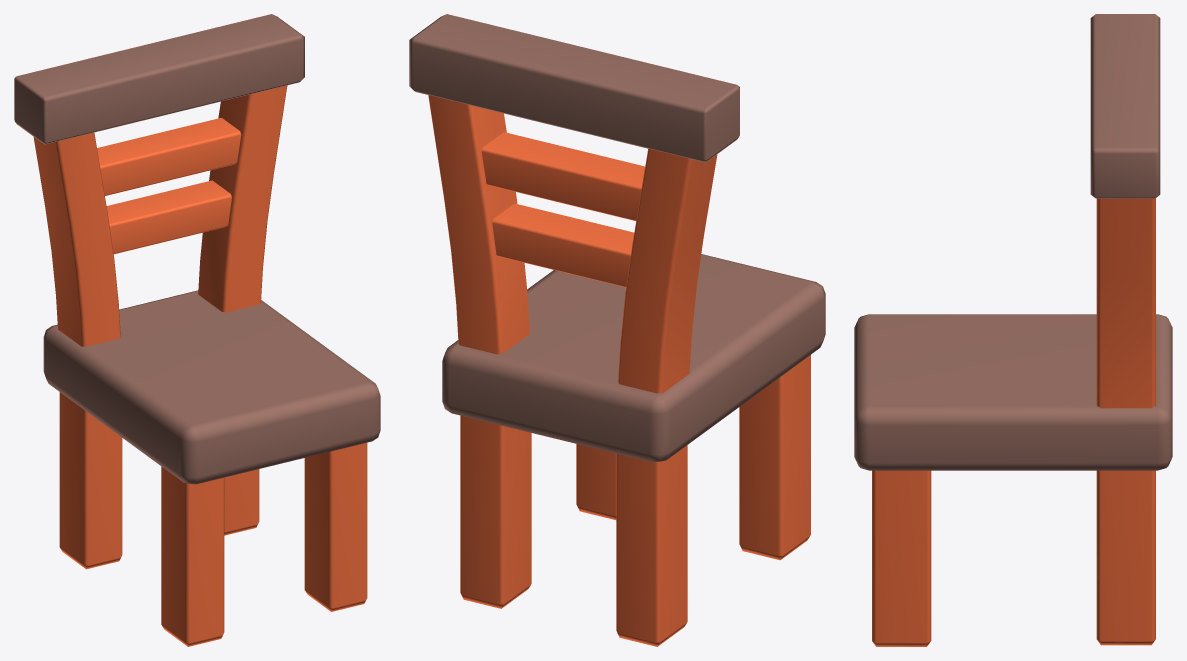
File: Store_2_Chair_1.glb
The picture shows the model from 3 angles, left to right: view 1: azimuth 30°, elevation 25°; view 2: azimuth 150°, elevation 25°; view 3: azimuth 270°, elevation 25°; orthographic projection. The views are drawn at different scales.
Visible parts, largest first — view 1: Store_2_Chair_1; view 2: Store_2_Chair_1; view 3: Store_2_Chair_1.
Part boxes in pixels (left/top/right/bottom): Store_2_Chair_1: left=14, top=14, right=380, bottom=646; Store_2_Chair_1: left=409, top=14, right=825, bottom=646; Store_2_Chair_1: left=854, top=14, right=1172, bottom=646.
Bounding box in the file's own units: 0.696 × 1.23 × 0.6831.
Materials: 1 (1 with a texture image).
